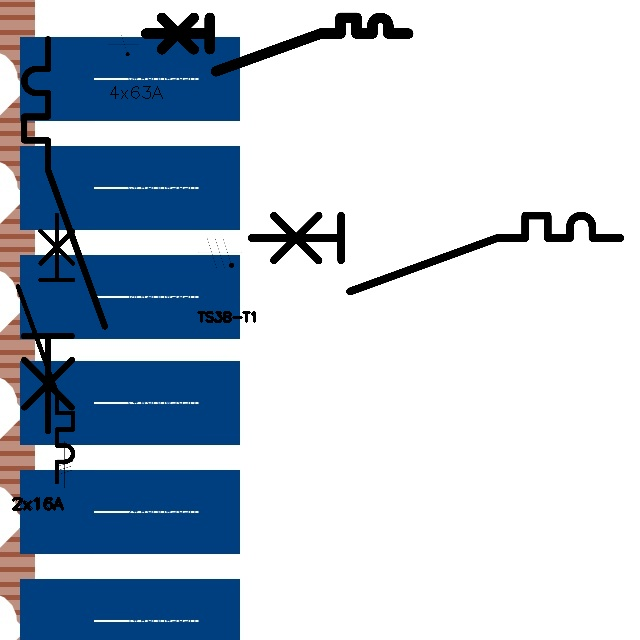interruptor_termomagnetico: (14, 29, 115, 441), (241, 206, 629, 301), (11, 208, 80, 489), (139, 11, 414, 78)
